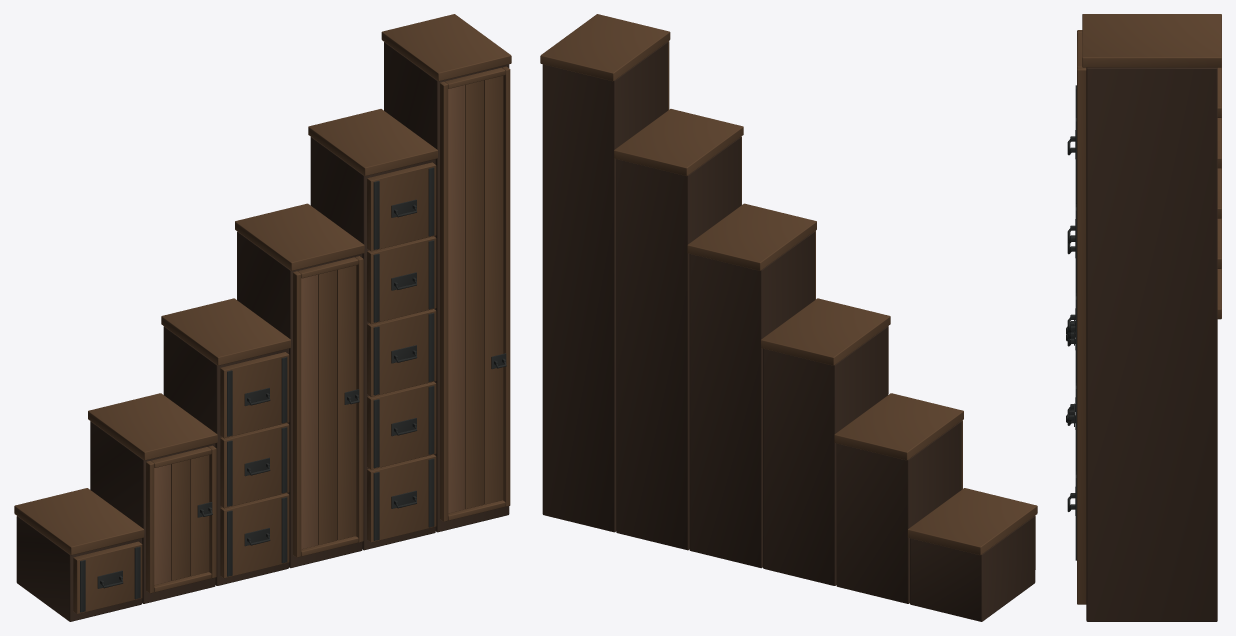
Rendered from kominka-kaidan-dansu-01.glb.
The picture shows the model from 3 angles, left to right: view 1: azimuth 30°, elevation 25°; view 2: azimuth 150°, elevation 25°; view 3: azimuth 270°, elevation 25°; orthographic projection. The views are drawn at different scales.
Parts seen in each view (by area): view 1: kominka-kaidan-dansu-01; view 2: kominka-kaidan-dansu-01; view 3: kominka-kaidan-dansu-01.
Part boxes in pixels (x1,y1,x2,y2): kominka-kaidan-dansu-01: (14,14,511,621); kominka-kaidan-dansu-01: (540,14,1037,621); kominka-kaidan-dansu-01: (1066,14,1221,621).
Size of the model in its own units: 1.8 by 1.8 by 0.45.
